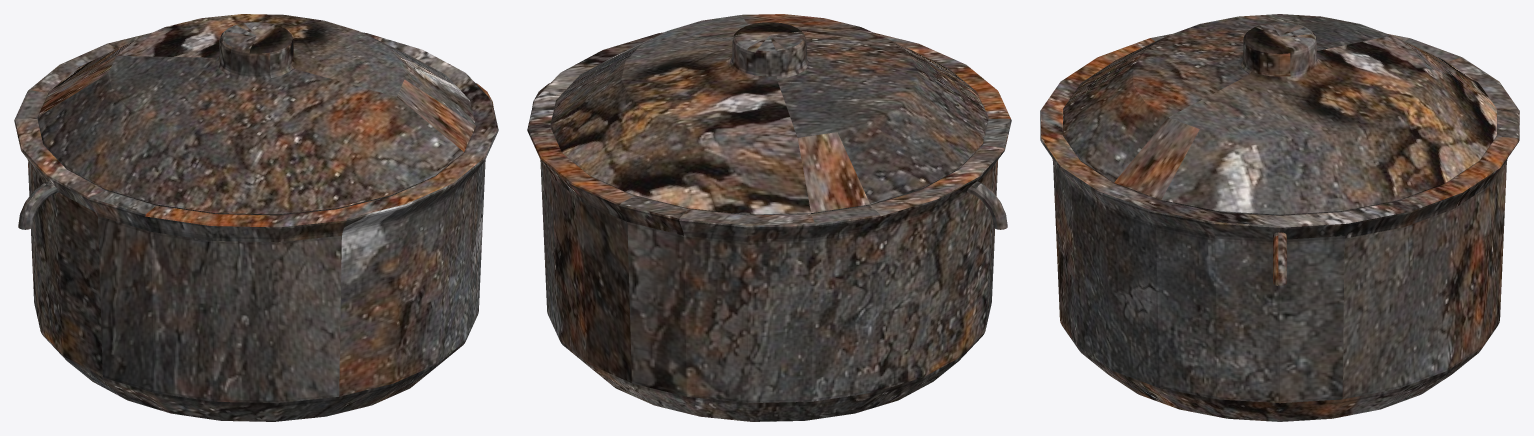
The model's file is iron-pot-v01.glb.
3 renders of one model, left to right at view 1: azimuth 30°, elevation 25°; view 2: azimuth 150°, elevation 25°; view 3: azimuth 270°, elevation 25°, orthographic.
Parts seen in each view (by area): view 1: iron-pot; view 2: iron-pot; view 3: iron-pot.
Boxes of the visible parts, x1,y1,x2,y2 form: iron-pot: (14,14,498,421); iron-pot: (527,14,1011,421); iron-pot: (1040,14,1519,421).
Size of the model in its own units: 0.7388 by 0.46 by 0.6476.
1 material, 1 textured.
